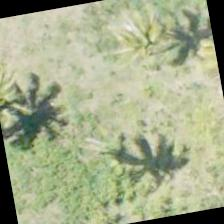Kelapa_Sawit: (64, 111, 168, 215), (95, 0, 200, 96)
